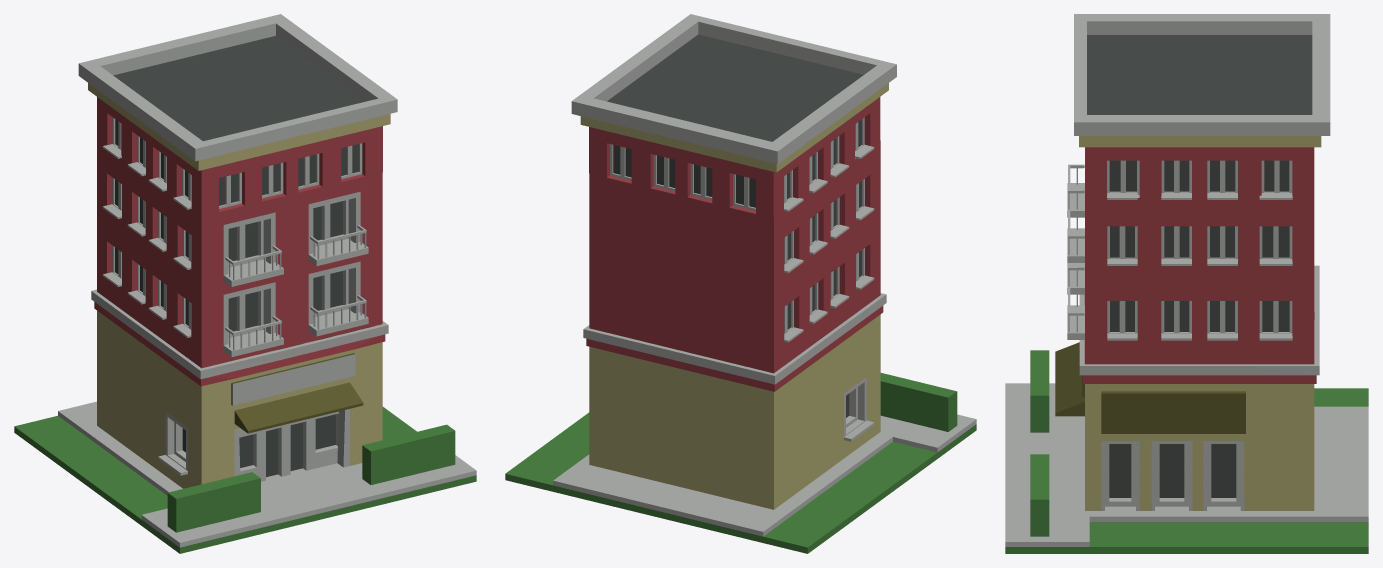
File: building_kit_lp.glb
3 views of the same model, side by side, from view 1: azimuth 30°, elevation 25°; view 2: azimuth 150°, elevation 25°; view 3: azimuth 270°, elevation 25° (orthographic). The views are drawn at different scales.
Parts seen in each view (by area): view 1: Object014_15 - Default6_0, Object019_04_0; view 2: Object014_15 - Default6_0, Object019_04_0; view 3: Object014_15 - Default6_0, Object019_04_0.
Boxes of the visible parts, box(x1,y1,x2,y2) form: Object014_15 - Default6_0: box(14, 14, 476, 553); Object019_04_0: box(113, 36, 365, 477); Object014_15 - Default6_0: box(505, 14, 976, 553); Object019_04_0: box(607, 34, 863, 417); Object014_15 - Default6_0: box(1005, 14, 1368, 553); Object019_04_0: box(1087, 35, 1312, 497).
Bounding box in the file's own units: 154 × 184 × 149.
2 materials, 2 textured.
